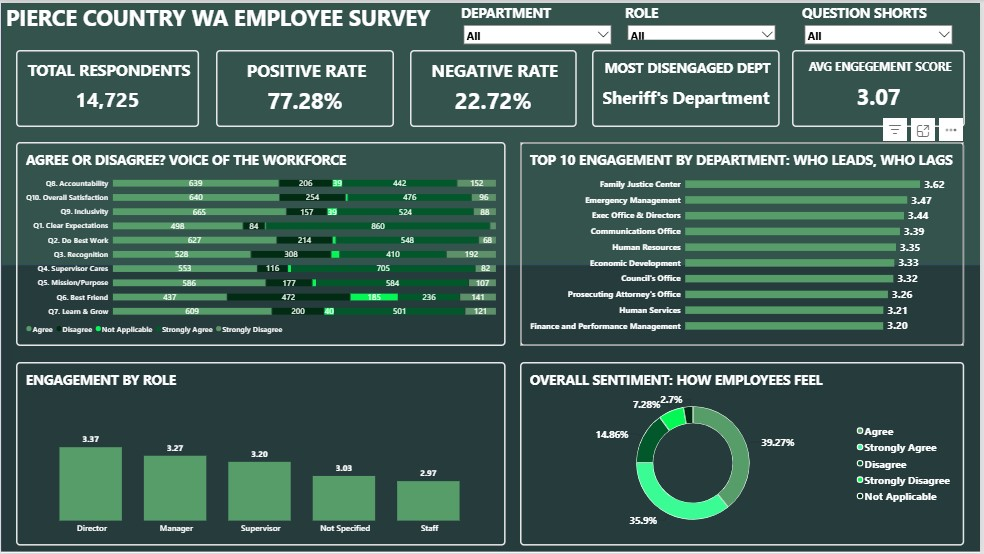

This screenshot's page, from the dashboard's own definition file:
{"tool":"powerbi","page":{"name":"Page 1","canvas":[1920,1080],"ordinal":0},"visuals":[{"type":"textbox","box":[9.8,0,856.1,92.7],"z":0},{"type":"card","title":"TOTAL RESPONDENTS","fields":{"Values":["HR Survey Reponses.Total Responses"]},"box":[29.3,92.7,358.5,151.2],"z":1000},{"type":"card","title":"POSITIVE RATE ","fields":{"Values":["HR Survey Reponses.Positive Rate %"]},"box":[422,92.7,348.8,151.2],"z":2000},{"type":"card","title":"NEGATIVE RATE ","fields":{"Values":["HR Survey Reponses.Negative Rate %"]},"box":[802.4,92.7,326.8,151.2],"z":3000},{"type":"card","title":"MOST DISENGAGED DEPT","fields":{"Values":["HR Survey Reponses.Most Disengaged Dept"]},"box":[1158.5,92.7,368.3,151.2],"z":4000},{"type":"card","title":"AVG ENGEGEMENT SCORE","fields":{"Values":["HR Survey Reponses.Avg Engagement Score"]},"box":[1551.2,92.7,339,151.2],"z":5000},{"type":"hundredPercentStackedBarChart","title":"AGREE OR DISAGREE? VOICE OF THE WORKFORCE","fields":{"Series":["HR Survey Reponses.Response Text"],"Y":["CountNonNull(HR Survey Reponses.Response ID)"],"Category":["HR Survey Reponses.Quesstion Shorts"]},"box":[28.9,273.3,960,400],"z":6000},{"type":"clusteredBarChart","title":" TOP 10 ENGAGEMENT BY DEPARTMENT: WHO LEADS, WHO LAGS","fields":{"Category":["HR Survey Reponses.Department"],"Y":["HR Survey Reponses.Avg Engagement Score"]},"box":[1017.8,273.3,871.1,400],"z":7000},{"type":"clusteredColumnChart","title":"ENGAGEMENT BY ROLE","fields":{"Y":["HR Survey Reponses.Avg Engagement Score"],"Category":["HR Survey Reponses.Role"]},"box":[28.9,704.4,960,360],"z":8000},{"type":"donutChart","title":"OVERALL SENTIMENT: HOW EMPLOYEES FEEL","fields":{"Category":["HR Survey Reponses.Response Text"],"Y":["HR Survey Reponses.Total Responses"]},"box":[1017.8,704.4,871.1,360],"z":9000},{"type":"slicer","title":"DEPARTMENT","fields":{"Values":["HR Survey Reponses.Department"]},"box":[901,0,300.3,93.9],"z":10000},{"type":"slicer","title":"ROLE","fields":{"Values":["HR Survey Reponses.Role"]},"box":[1222.8,0,300.3,72.4],"z":11000},{"type":"slicer","title":"QUESTION SHORTS","fields":{"Values":["HR Survey Reponses.Quesstion Shorts"]},"box":[1571.4,0,300.3,93.9],"z":12000}]}

Visuals, with their boxes in screenshot pixels (x1, y1, x2, y2), scaled from the page's 1920x1080 canvas onto the 984x554 screenshot:
textbox: bbox=[5, 0, 444, 48]
"TOTAL RESPONDENTS" card: bbox=[15, 48, 199, 125]
"POSITIVE RATE " card: bbox=[216, 48, 395, 125]
"NEGATIVE RATE " card: bbox=[411, 48, 579, 125]
"MOST DISENGAGED DEPT" card: bbox=[594, 48, 782, 125]
"AVG ENGEGEMENT SCORE" card: bbox=[795, 48, 969, 125]
"AGREE OR DISAGREE? VOICE OF THE WORKFORCE" hundredPercentStackedBarChart: bbox=[15, 140, 507, 345]
" TOP 10 ENGAGEMENT BY DEPARTMENT: WHO LEADS, WHO LAGS" clusteredBarChart: bbox=[522, 140, 968, 345]
"ENGAGEMENT BY ROLE" clusteredColumnChart: bbox=[15, 361, 507, 546]
"OVERALL SENTIMENT: HOW EMPLOYEES FEEL" donutChart: bbox=[522, 361, 968, 546]
"DEPARTMENT" slicer: bbox=[462, 0, 616, 48]
"ROLE" slicer: bbox=[627, 0, 781, 37]
"QUESTION SHORTS" slicer: bbox=[805, 0, 959, 48]
